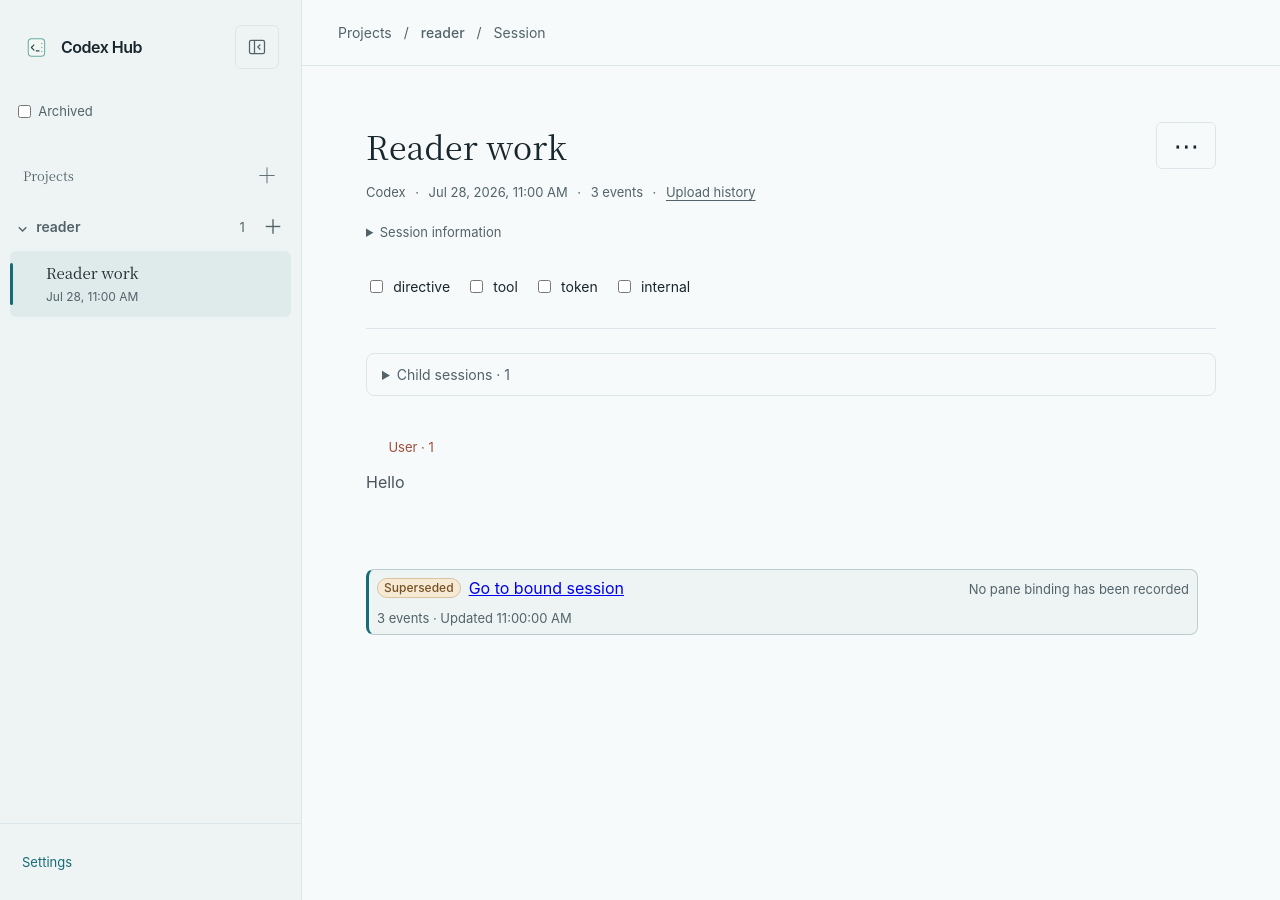
Test: unified hub › expands the destination project when following the bound-session link
Click the button "⌄ reader 1" at (131, 227), box top-left (10, 205), bottom-right (252, 249)
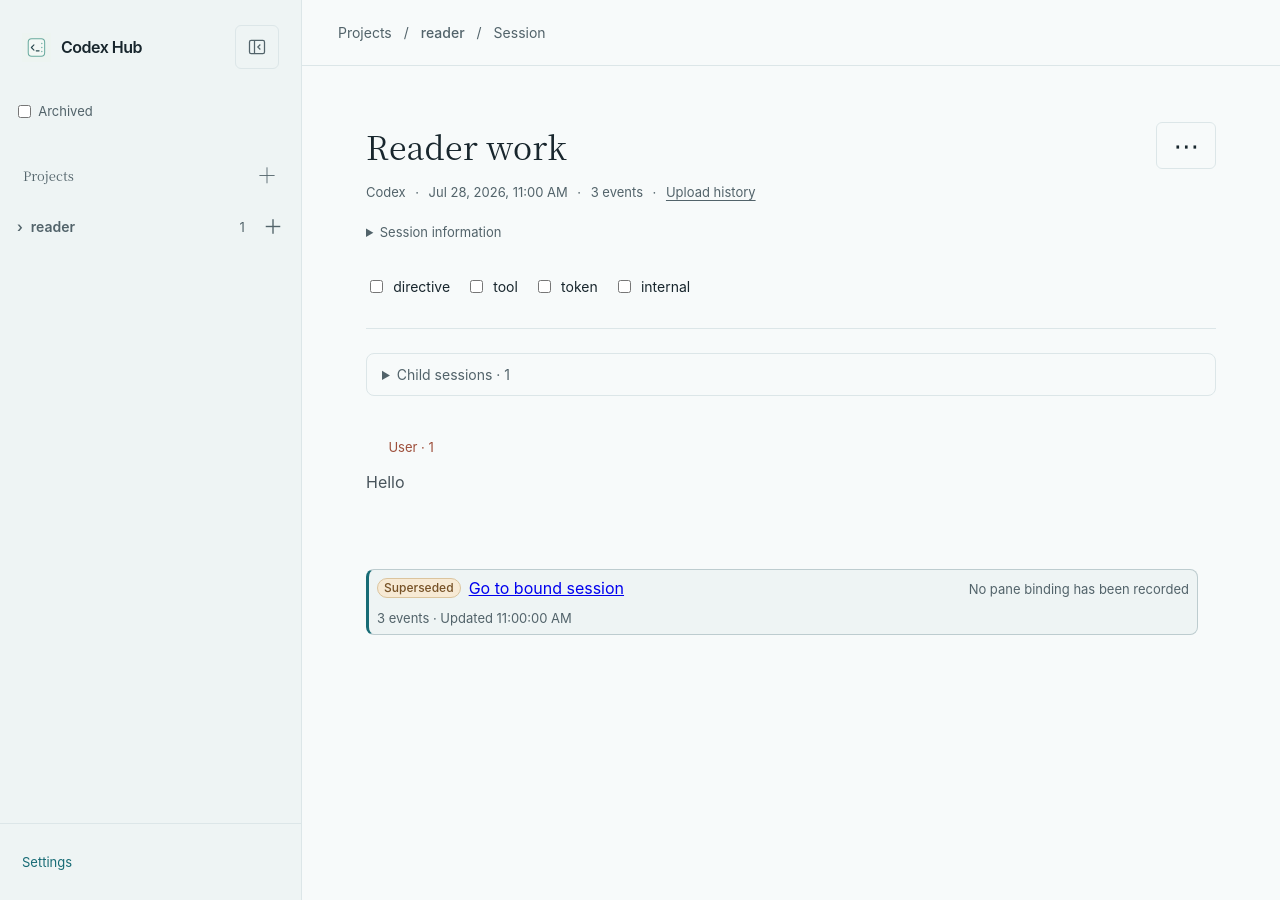
Now the button "› reader 1" is collapsed, box top-left (10, 205), bottom-right (252, 249)
Click the link "Go to bound session" at (546, 588), box top-left (469, 578), bottom-right (624, 598)
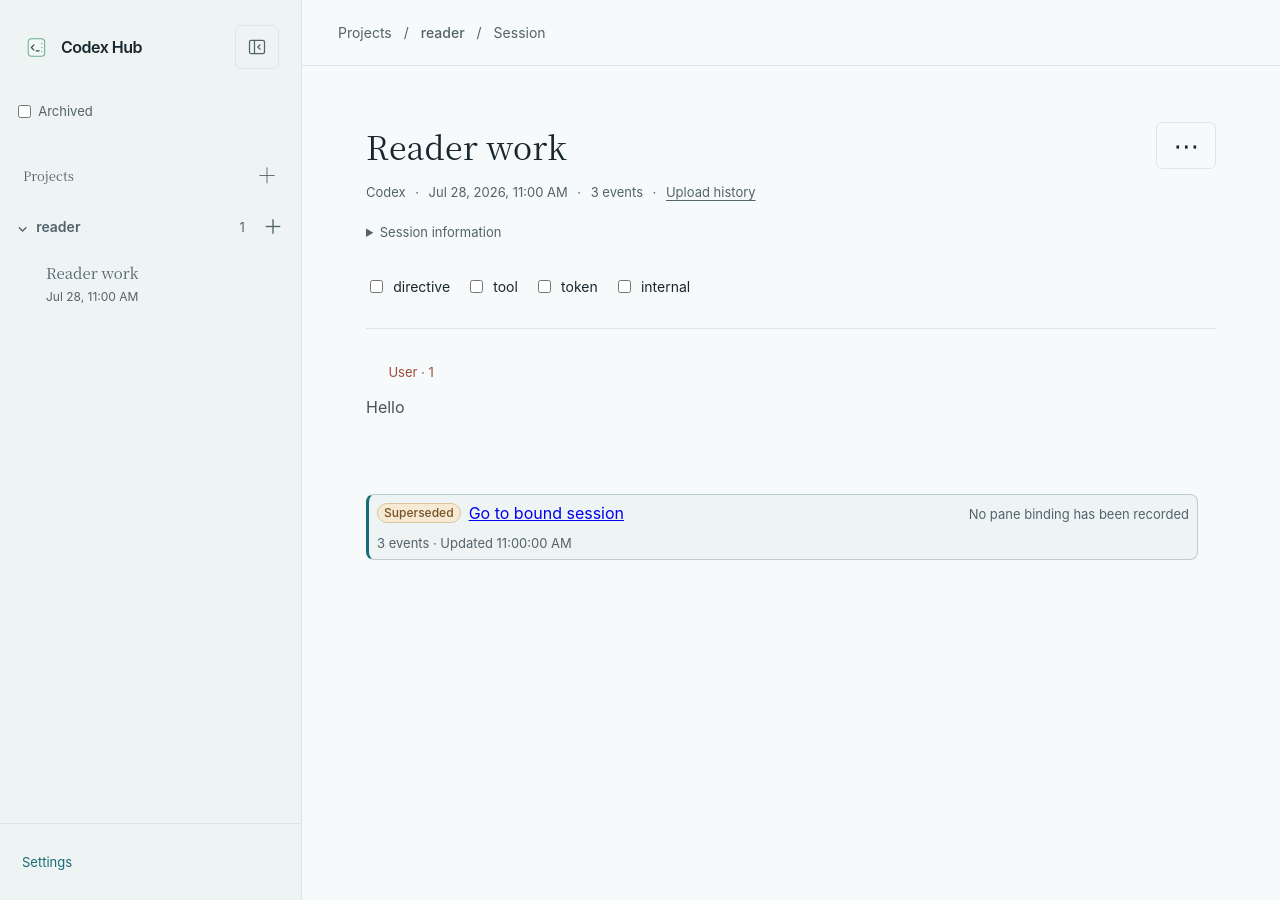
Now the button "⌄ reader 1" is expanded, box top-left (10, 205), bottom-right (252, 249)
